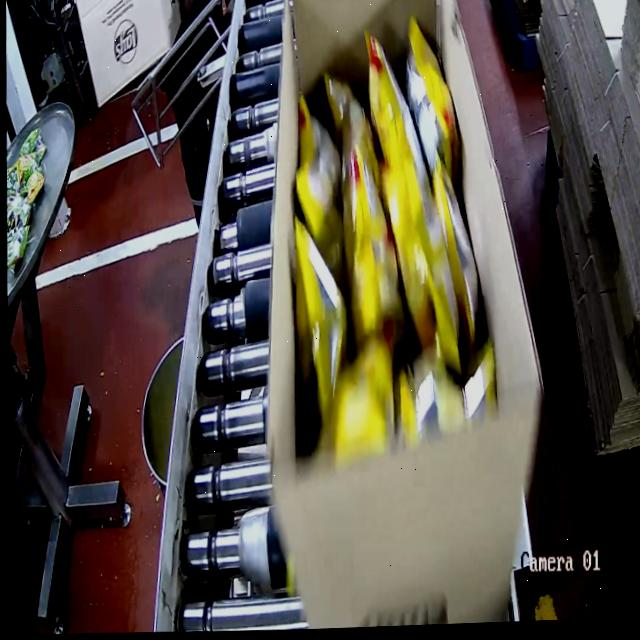SALTED: (288, 44, 486, 422)
